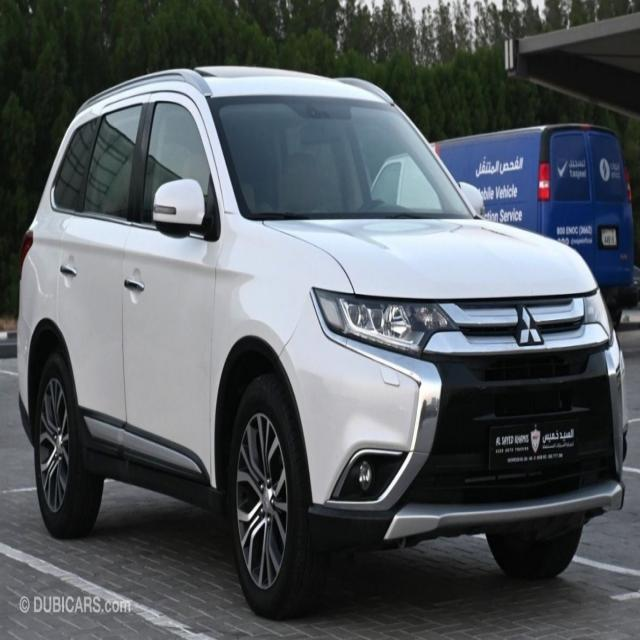light_vehicle: (16, 63, 630, 620)
